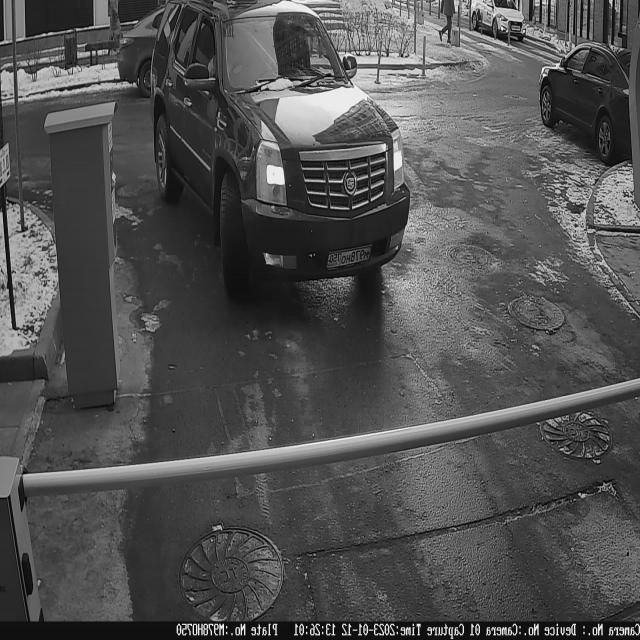car-plate-numbers: (321, 239, 378, 278)
